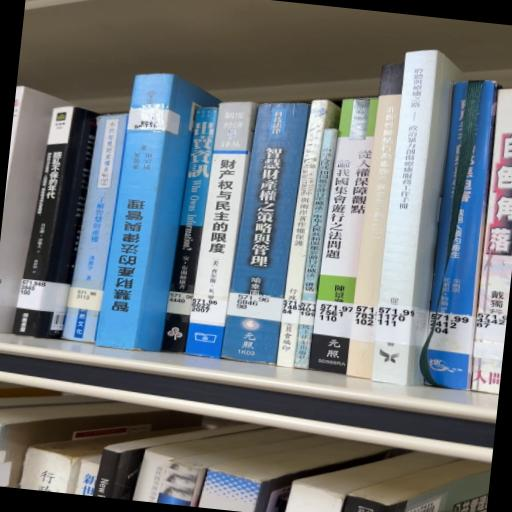reverse: (95, 74, 219, 351)
